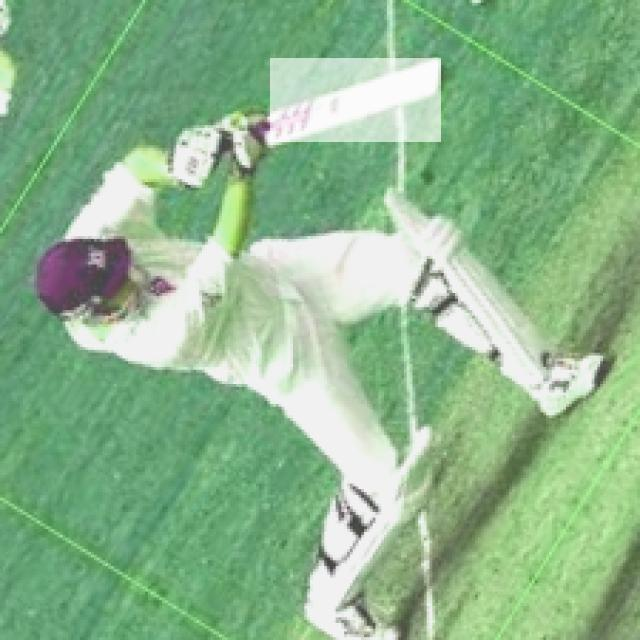bat: (272, 61, 440, 142)
toe: (433, 58, 448, 97)
